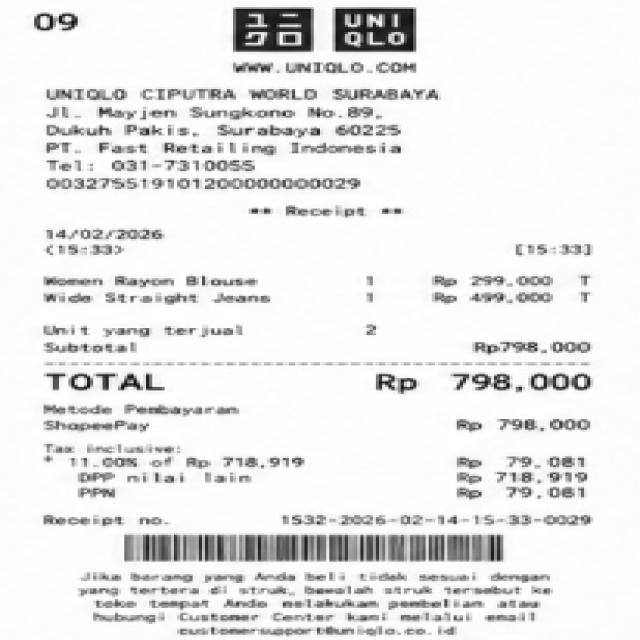date: (33, 224, 193, 262)
store: (199, 0, 471, 60), (38, 82, 452, 107)
total: (39, 366, 599, 397)
